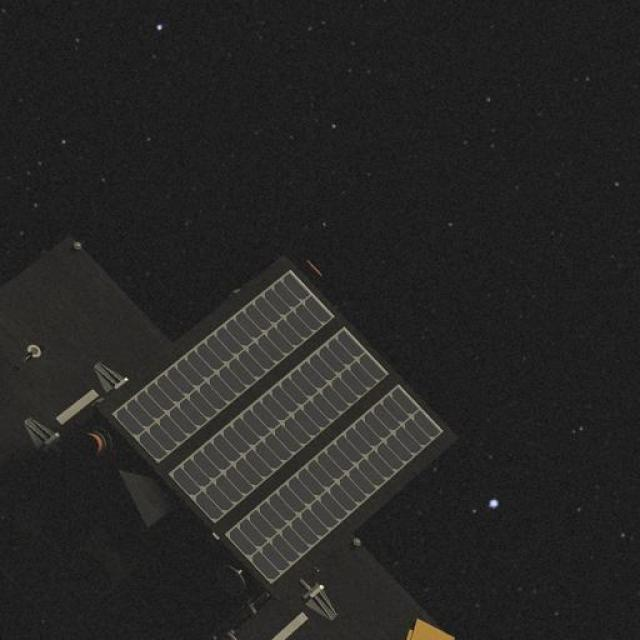proba_2: (0, 200, 450, 640)
